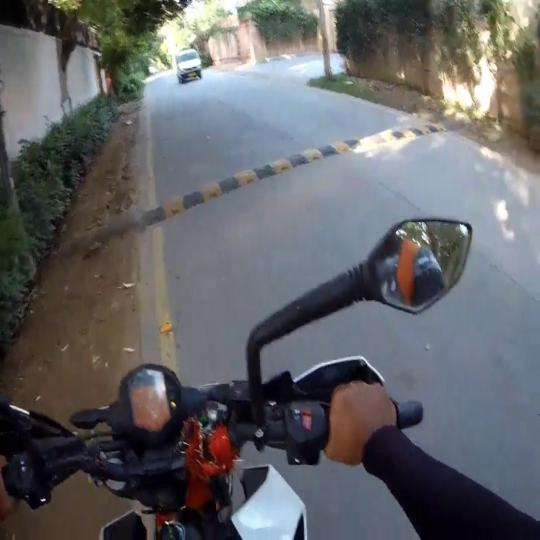Speed Bump: (142, 117, 449, 221)
